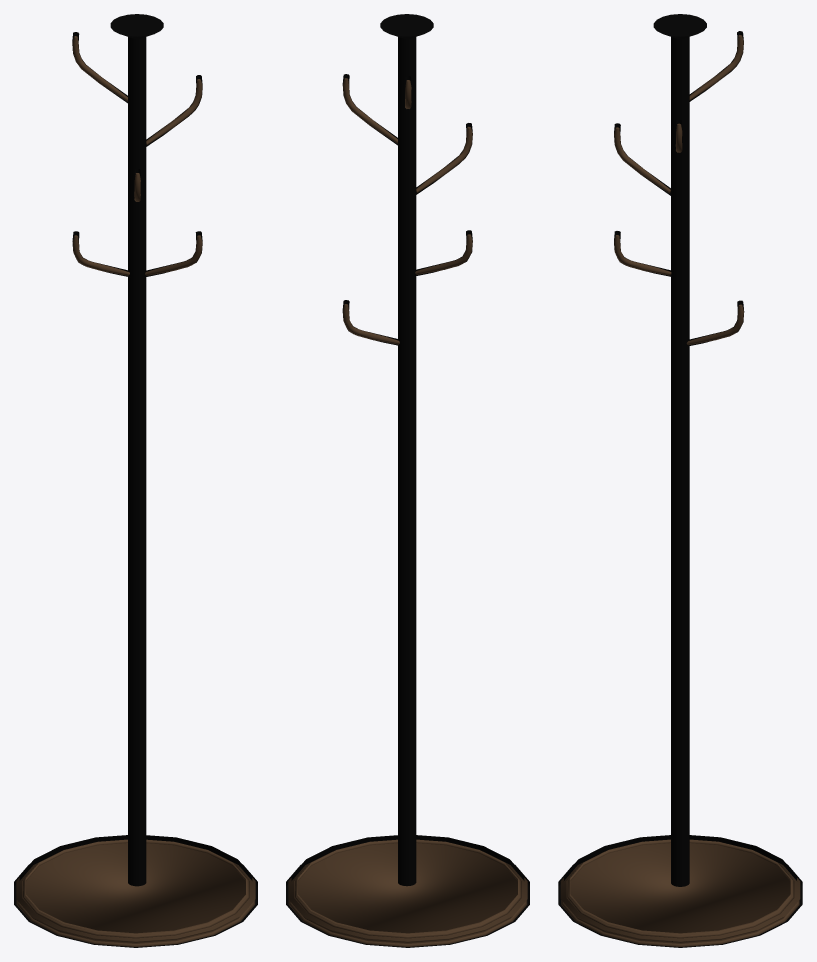
Rendered from CoatHanger.fbx.
3 renders of one model, left to right at view 1: azimuth 30°, elevation 25°; view 2: azimuth 150°, elevation 25°; view 3: azimuth 270°, elevation 25°, orthographic.
Visible parts, largest first — view 1: Cylinder002_INSTALOD_INSTALOD.001; view 2: Cylinder002_INSTALOD_INSTALOD.001; view 3: Cylinder002_INSTALOD_INSTALOD.001.
Boxes of the visible parts, bbox=[...] form: Cylinder002_INSTALOD_INSTALOD.001: bbox=[14, 14, 257, 947]; Cylinder002_INSTALOD_INSTALOD.001: bbox=[286, 14, 529, 947]; Cylinder002_INSTALOD_INSTALOD.001: bbox=[558, 14, 802, 947].
Bounding box in the file's own units: 76.17 × 295 × 75.01.
